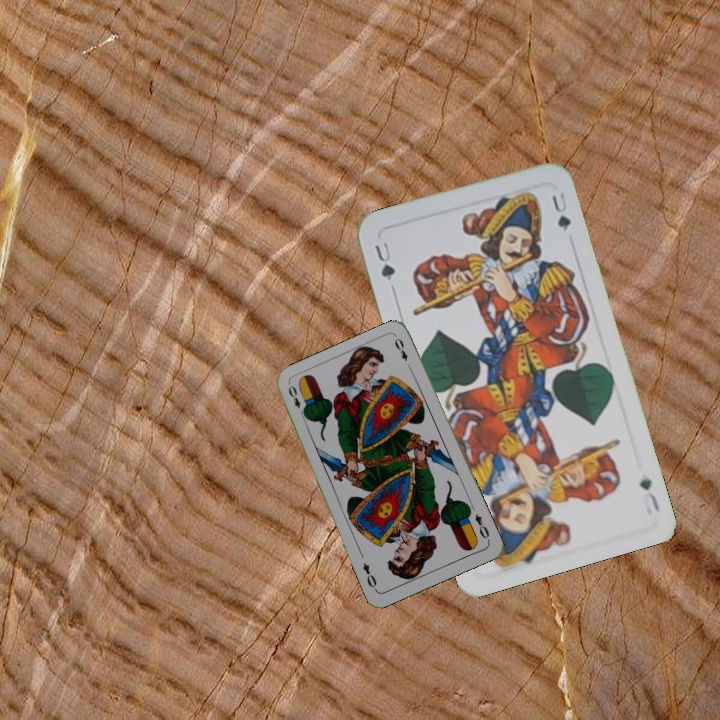EO: (284, 381, 308, 420), (471, 510, 492, 544)
GU: (370, 237, 398, 284), (635, 474, 663, 515)
